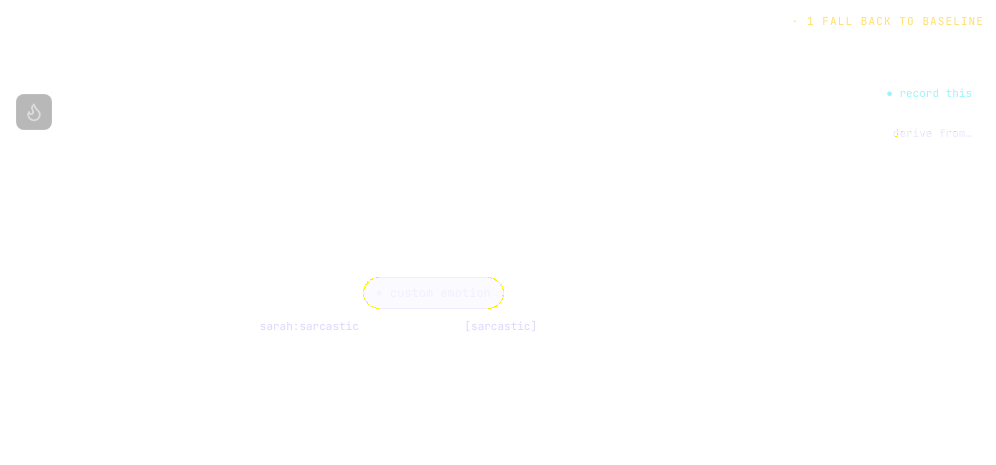
Test: EmotionRack — derive from… › renders the service's refusal verbatim, against the slot it refused
Click the button with aria-label "Derive the Angry voice from another recording". click: (932, 134)
box: [893,126,972,142]
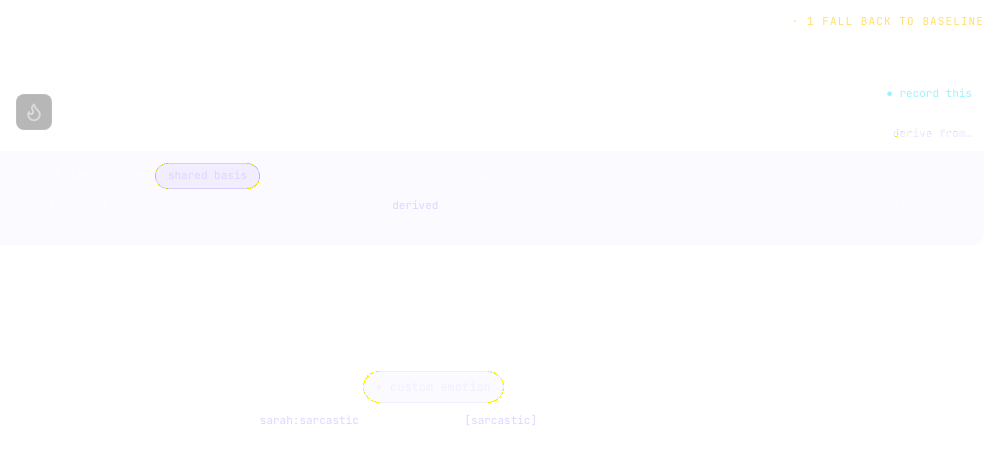
Click the button "shared basis". click: (208, 176)
box: [155,163,260,189]
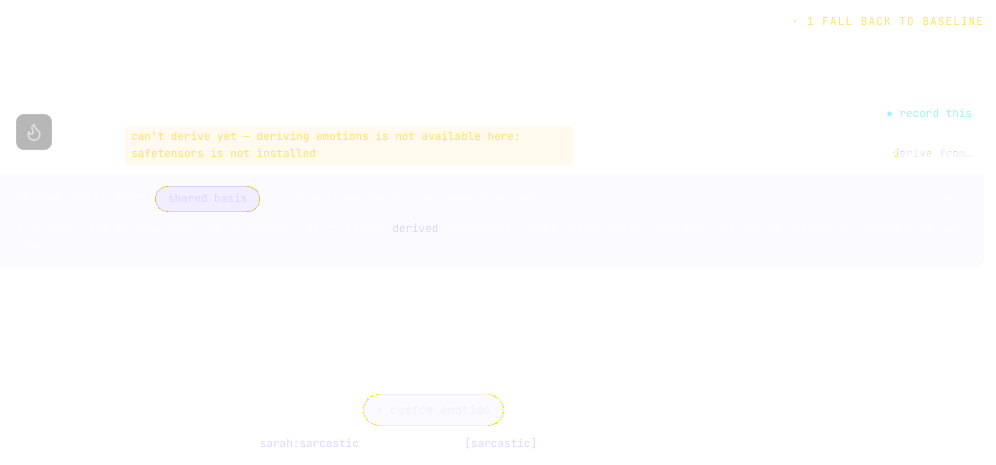
Check: the button "● record this" is shown, box [886,106,972,121]
Check: the text "deriving emotions is not available here: safetensors is not installed" is shown, box [131,129,520,160]
